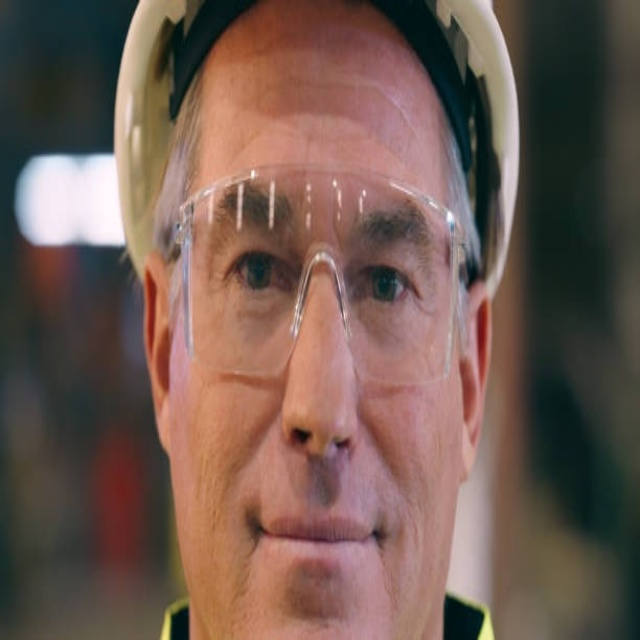Gafas: (167, 169, 471, 386)
Sin_mascara: (232, 460, 393, 630)
